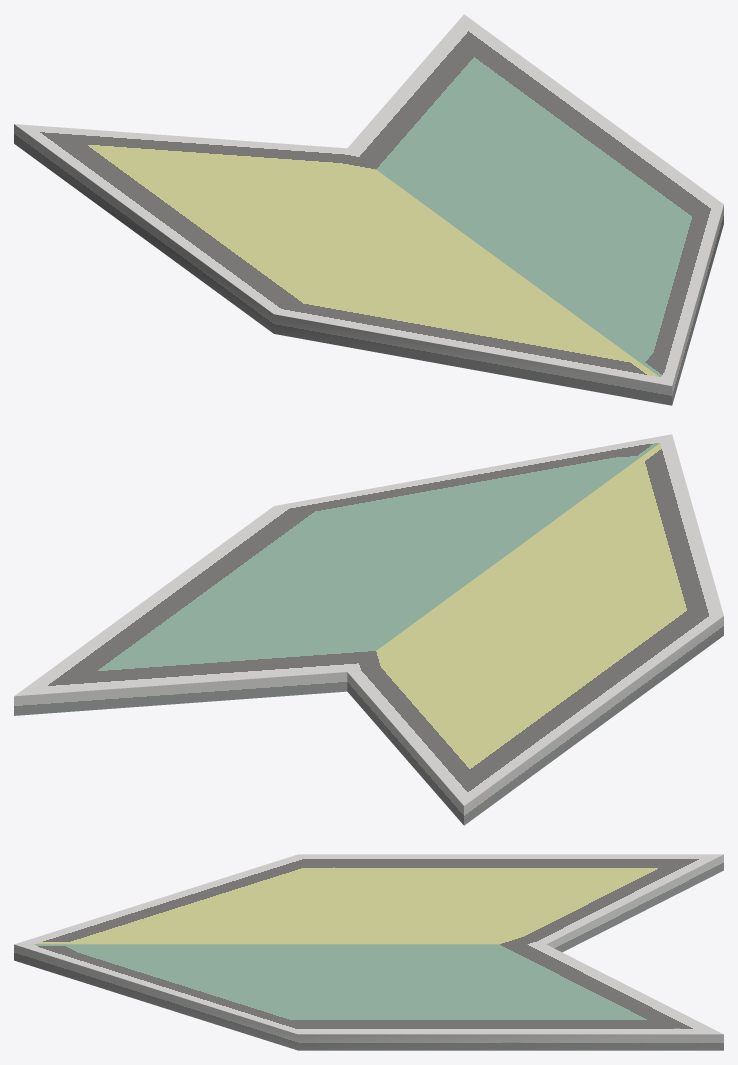
Rendered from 00a1_New_Driver_Sign.glb.
3 renders of one model, top to bottom at view 1: azimuth 30°, elevation 25°; view 2: azimuth 150°, elevation 25°; view 3: azimuth 270°, elevation 25°, orthographic. The views are drawn at different scales.
Parts seen in each view (by area): view 1: part_0; view 2: part_0; view 3: part_0.
Part boxes in pixels (x1,y1,x2,y2): part_0: [14, 14, 723, 405]; part_0: [14, 434, 723, 825]; part_0: [14, 854, 723, 1050].
Size of the model in its own units: 0.144 by 0.006 by 0.24.
1 material, 1 textured.
